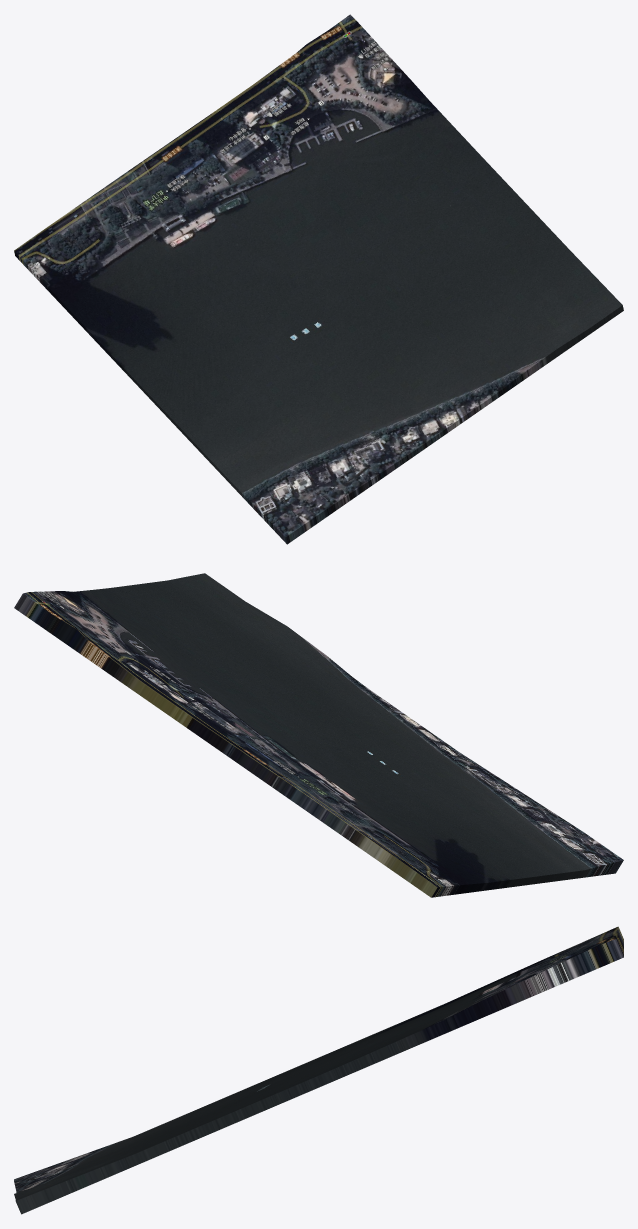
3 views of the same model, one above another, from view 1: azimuth 30°, elevation 25°; view 2: azimuth 150°, elevation 25°; view 3: azimuth 270°, elevation 25° (orthographic). The views are drawn at different scales.
Visible parts, largest first — view 1: 0_13_17; view 2: 0_13_17; view 3: 0_13_17.
Part boxes in pixels (x1,y1,x2,y2): 0_13_17: (14,14,623,544); 0_13_17: (14,573,623,897); 0_13_17: (14,926,623,1214).
Bounding box in the file's own units: 597 × 443 × 549.
Materials: 1 (1 with a texture image).
